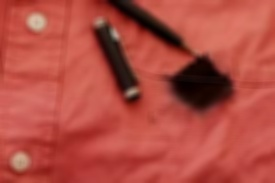ink: (176, 63, 231, 103)
